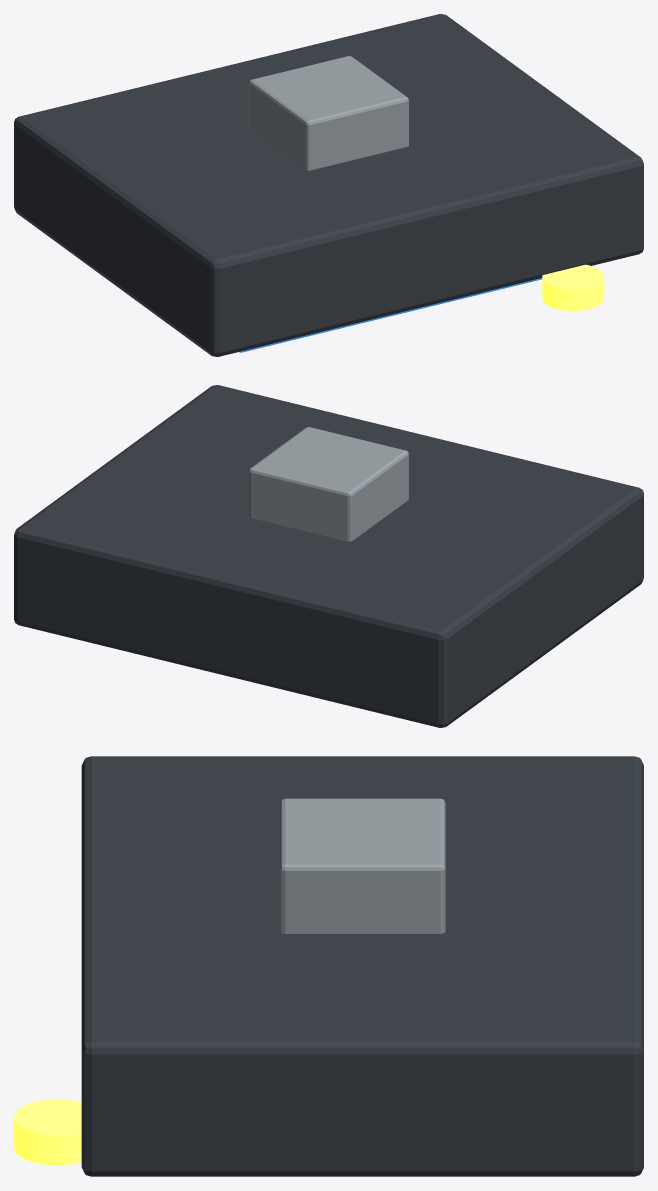
Rendered from MONITOR.glb.
3 views of the same model, one above another, from view 1: azimuth 30°, elevation 25°; view 2: azimuth 150°, elevation 25°; view 3: azimuth 270°, elevation 25° (orthographic). The views are drawn at different scales.
Parts seen in each view (by area): view 1: bezel, mount, alarm, screen; view 2: bezel, mount; view 3: bezel, mount, alarm.
Boxes of the visible parts, x1=… form: bezel: x1=14, y1=14, x2=643, y2=356; mount: x1=249, y1=56, x2=408, y2=170; alarm: x1=542, y1=264, x2=604, y2=311; screen: x1=239, y1=278, x2=542, y2=352; bezel: x1=14, y1=385, x2=643, y2=727; mount: x1=249, y1=427, x2=408, y2=541; bezel: x1=81, y1=756, x2=643, y2=1176; mount: x1=280, y1=798, x2=445, y2=933; alarm: x1=14, y1=1099, x2=81, y2=1165.
Size of the model in its own units: 0.42 by 0.151 by 0.381.
